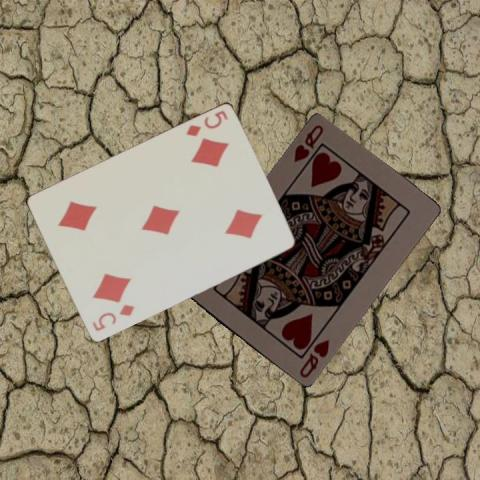5d: (89, 302, 136, 334), (183, 107, 229, 139)
Qh: (296, 337, 331, 380), (291, 122, 325, 165)
